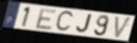1: (20, 6, 32, 28)
9: (92, 14, 110, 37)
C: (54, 10, 75, 33)
E: (34, 8, 58, 31)
J: (75, 14, 93, 34)
V: (114, 16, 132, 40)
